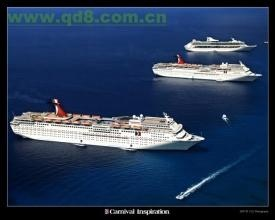youlun: (9, 94, 205, 152), (150, 61, 263, 83), (182, 32, 257, 54)
